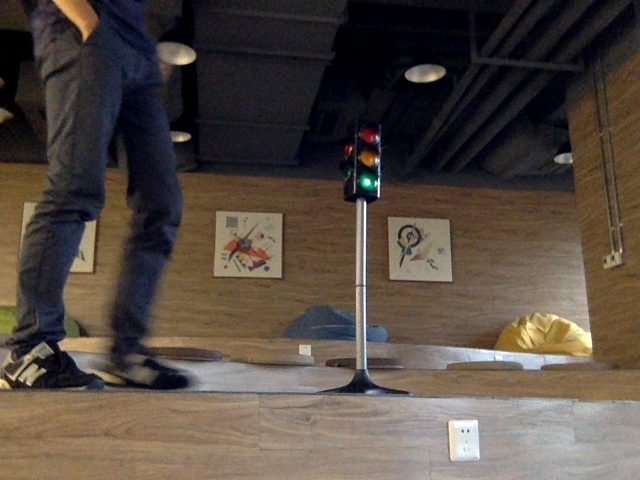green: (354, 128, 378, 192)
